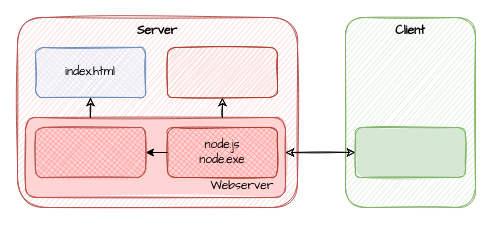
The diagram is 493 pixels wide and 225 high, and some of its shapes have lost their labels. Here are the shapes that lost their labels. From the top down, the centre of each, then its label:
At [222,72]: "Dienst mysql80".
At [90,152]: "app.js".
At [410,152]: "Browser".
